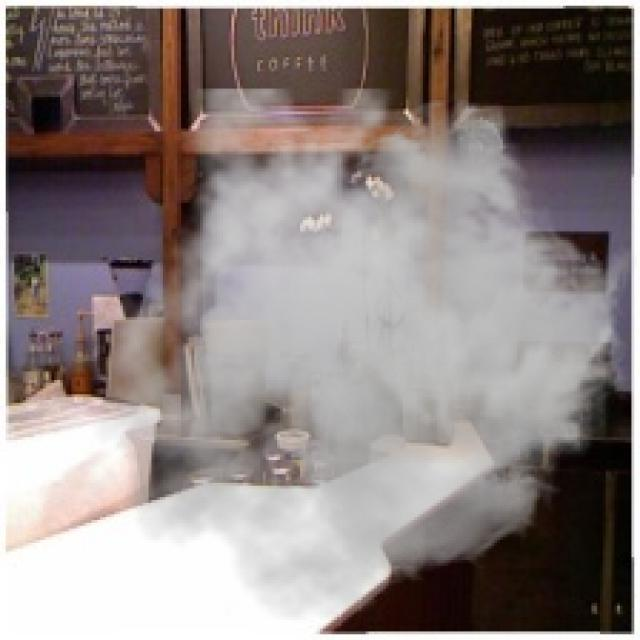Smoke: (92, 89, 638, 626)
